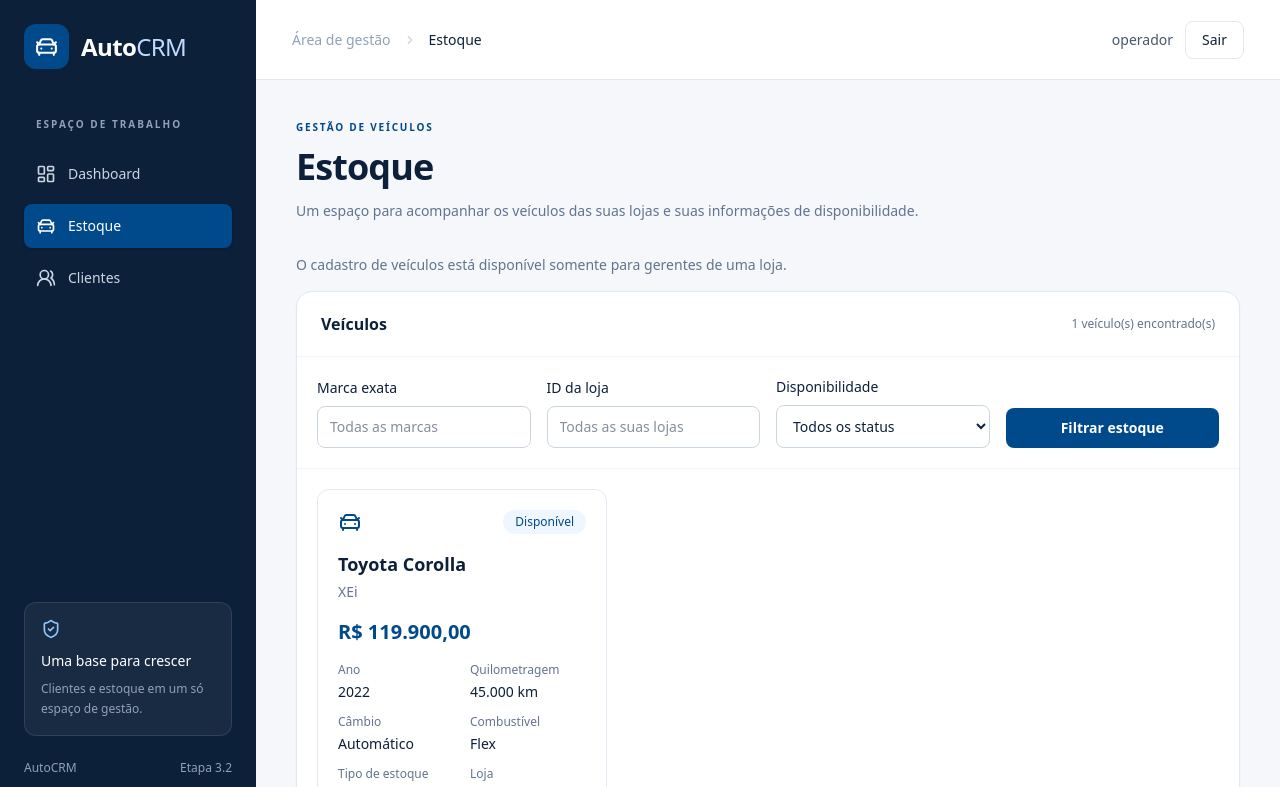
Test case: sessão e proteção das rotas › remove os dados protegidos e pede novo login quando a sessão expira
expect the heading "Toyota Corolla" is shown: met, box [338,552,466,576]
Step 1. Click the button "Filtrar estoque" → (1112, 428), box [1006,408,1219,448]
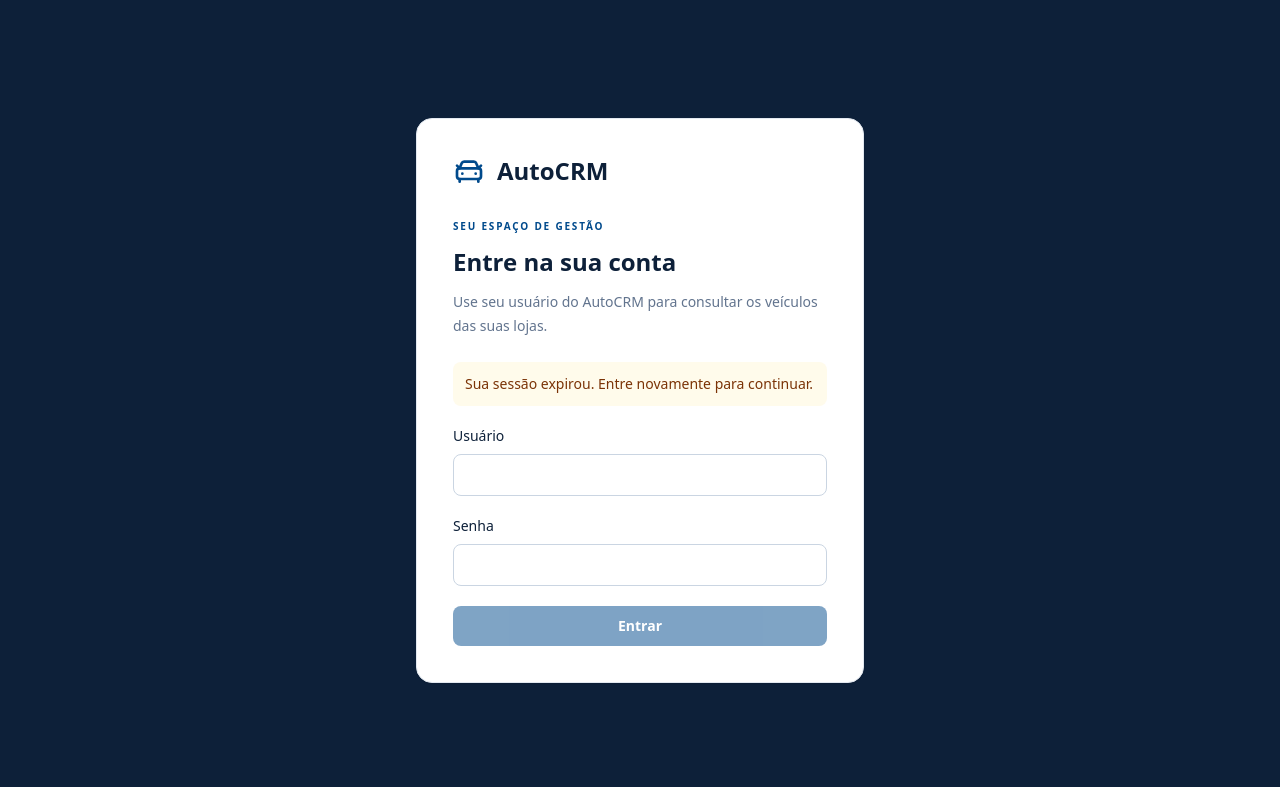
expect the message shows "Sua sessão expirou": met, box [465,374,813,392]
expect the heading "Toyota Corolla" is gone: met
expect the field labelled "Usuário" is shown: met, box [453,454,827,496]
